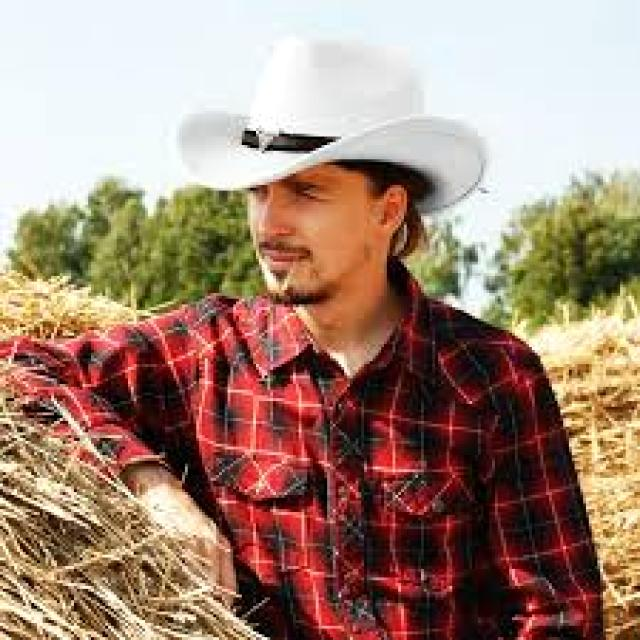hat: (180, 37, 486, 213)
top-wear: (0, 268, 603, 639)
